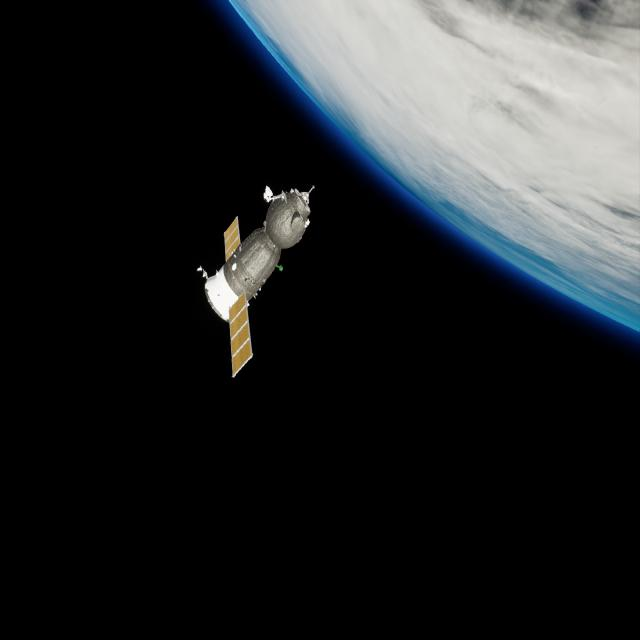Satellites revolving around earth: (195, 181, 317, 379)
